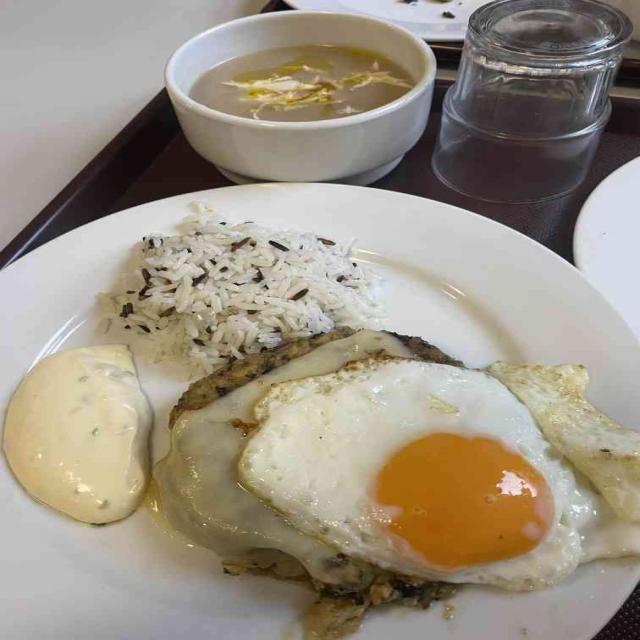cheese: (152, 330, 409, 582), (0, 345, 152, 524), (488, 361, 639, 526), (385, 333, 450, 361)
cup: (432, 0, 632, 244)
fried egg: (240, 360, 620, 589)
plate: (0, 183, 639, 639)
pork loin: (170, 328, 358, 428)
rice: (110, 208, 377, 375)
soup: (204, 46, 413, 122)
soupbowl: (167, 11, 433, 183)
